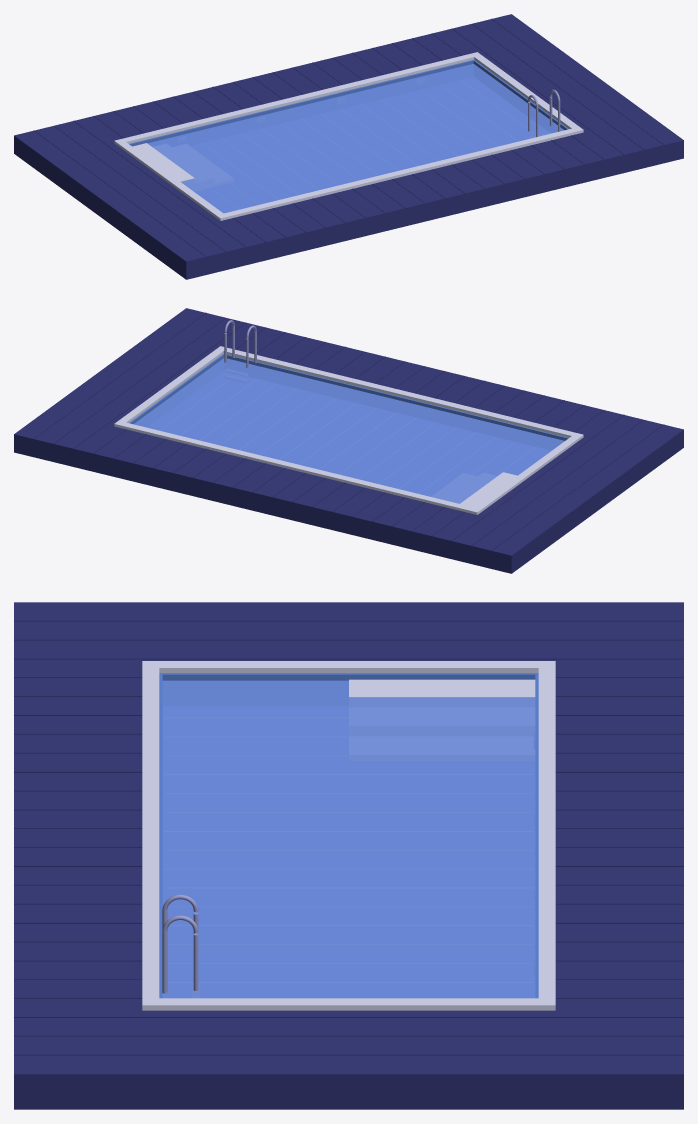
The model's file is pool.glb.
3 views of the same model, one above another, from view 1: azimuth 30°, elevation 25°; view 2: azimuth 150°, elevation 25°; view 3: azimuth 270°, elevation 25° (orthographic). The views are drawn at different scales.
Visible parts, largest first — view 1: water, deck2, deck, deck3, coping, deck4, pool, basin, steps, ladder; view 2: water, deck, deck2, deck3, coping, deck4, pool, basin, steps, ladder; view 3: water, deck, deck2, deck4, deck3, coping, pool, basin, steps, ladder.
Part boxes in pixels (x1,y1,x2,y2): water: (147, 64, 563, 213); deck2: (149, 113, 683, 279); deck: (14, 14, 548, 180); deck3: (51, 146, 215, 252); coping: (114, 52, 583, 220); deck4: (484, 41, 646, 128); pool: (33, 18, 663, 256); basin: (129, 59, 568, 146); steps: (132, 143, 194, 181); ladder: (528, 89, 560, 137); water: (134, 358, 564, 503); deck: (14, 407, 548, 573); deck2: (149, 308, 683, 474); deck3: (482, 440, 646, 546); coping: (114, 346, 583, 514); deck4: (51, 335, 213, 422); pool: (34, 312, 664, 550); basin: (129, 353, 568, 440); steps: (460, 472, 517, 507); ladder: (224, 320, 256, 367); water: (162, 680, 535, 998); deck: (538, 602, 683, 1109); deck2: (14, 602, 158, 1109); deck4: (159, 1010, 538, 1109); deck3: (159, 602, 538, 660); coping: (142, 661, 555, 1010); pool: (14, 620, 683, 1055); basin: (159, 673, 538, 998); steps: (349, 679, 535, 697); ladder: (162, 894, 198, 993).
Size of the model in its own units: 10 by 1.11 by 6.
